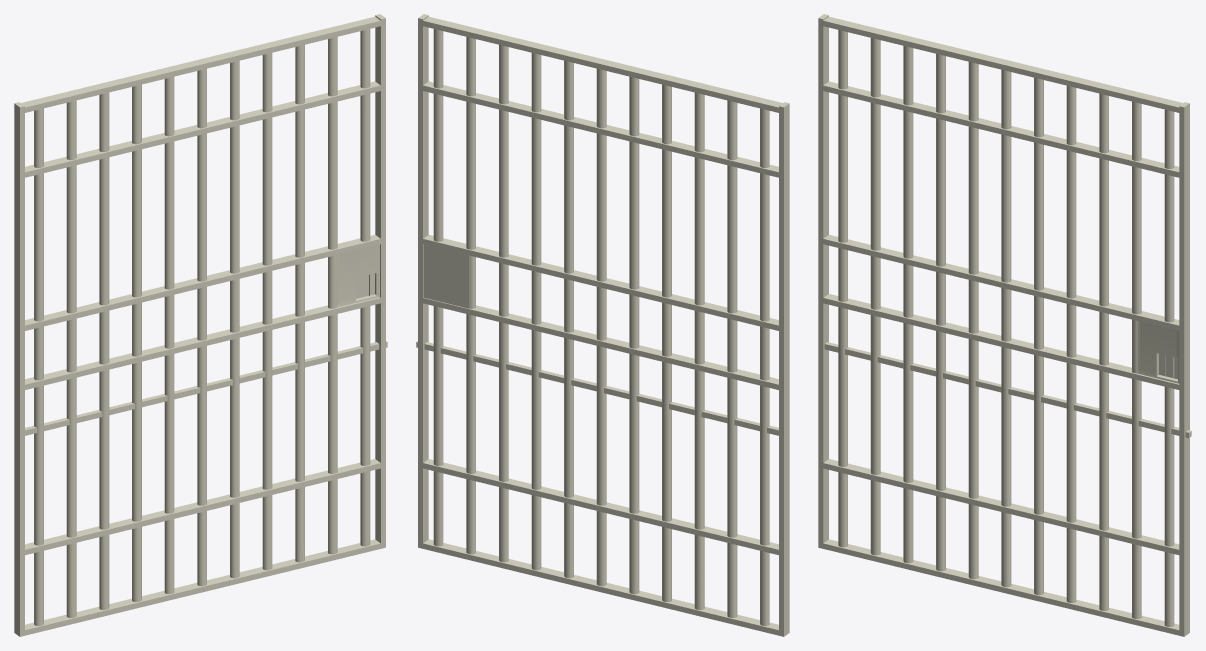
File: Longkesh door.fbx
3 views of the same model, side by side, from view 1: azimuth 30°, elevation 25°; view 2: azimuth 150°, elevation 25°; view 3: azimuth 330°, elevation 25° (orthographic).
Parts seen in each view (by area): view 1: Cube.031; view 2: Cube.031; view 3: Cube.031.
Part boxes in pixels (x1,y1,x2,y2): Cube.031: (14,14,387,636); Cube.031: (416,14,789,636); Cube.031: (818,14,1191,636).
Size of the model in its own units: 303 by 415 by 8.11.
